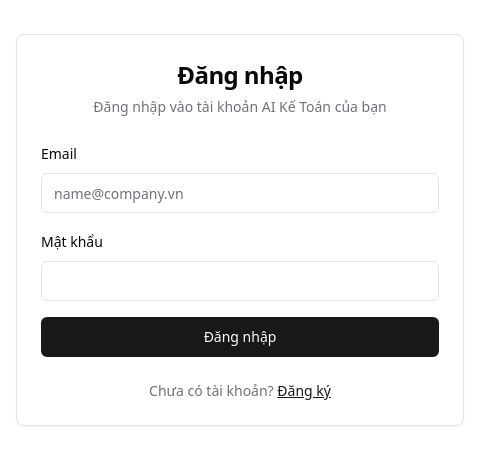
LoginPage › shows error message when API returns invalid credentials
In the field labelled "Email": point(240, 193) [41,173,439,213], type "test@test.vn"
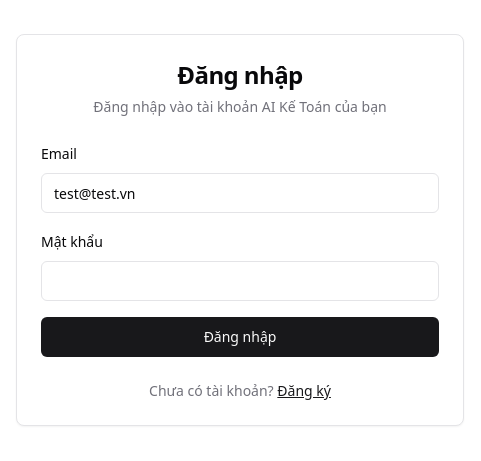
In the password field labelled "Mật khẩu": point(240, 281) [41,261,439,301], type "wrongpassword"
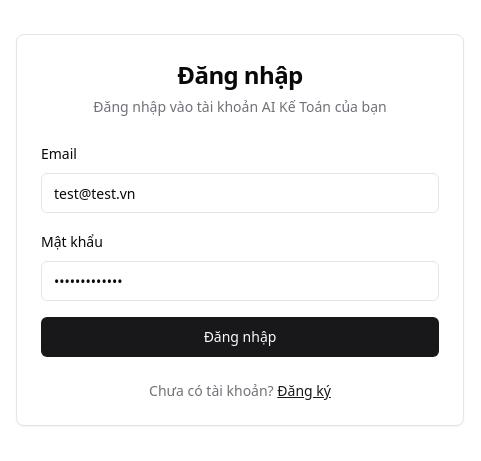
Click the button "Đăng nhập": point(240, 337) [41,317,439,357]
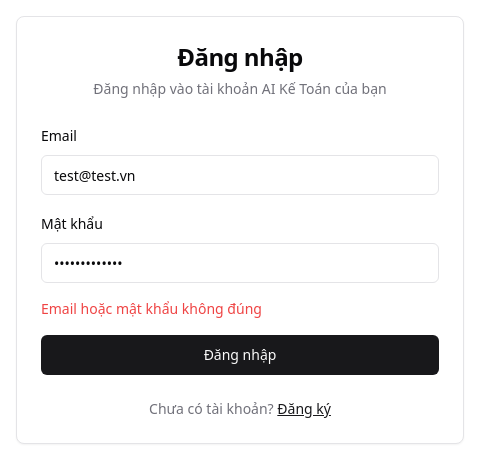
Now the text "Email hoặc mật khẩu không đúng" is shown, box [41,299,262,318]
